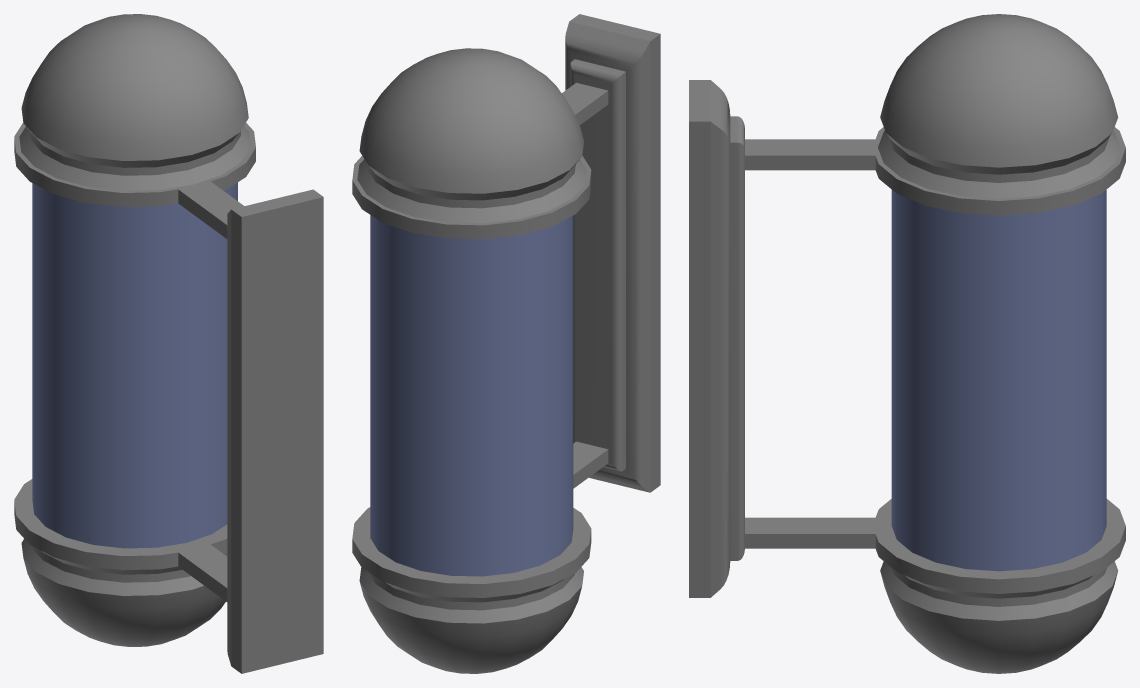
Rendered from BarberPole_01_DF.fbx.
The picture shows the model from 3 angles, left to right: view 1: azimuth 30°, elevation 25°; view 2: azimuth 150°, elevation 25°; view 3: azimuth 270°, elevation 25°; orthographic projection. The views are drawn at different scales.
Visible parts, largest first — view 1: pCube7; view 2: pCube7; view 3: pCube7.
Part boxes in pixels (bbox=[...]): pCube7: bbox=[14, 14, 323, 673]; pCube7: bbox=[352, 14, 660, 673]; pCube7: bbox=[689, 14, 1125, 673].
Bounding box in the file's own units: 0.4785 × 1.33 × 0.8249.
